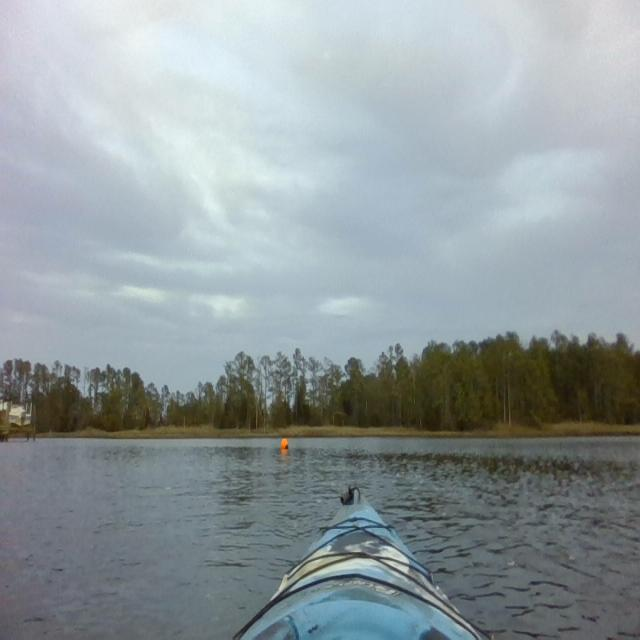Buoy: (279, 435, 291, 451)
